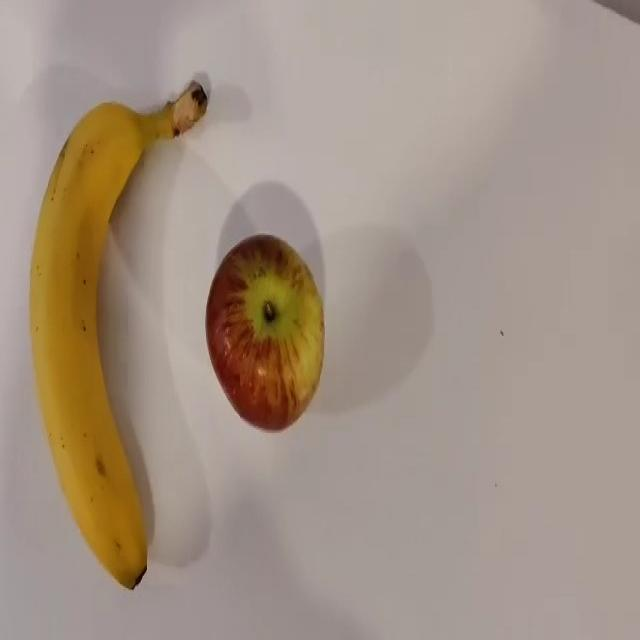Apple: (204, 233, 325, 431)
Banana: (28, 76, 209, 590)
